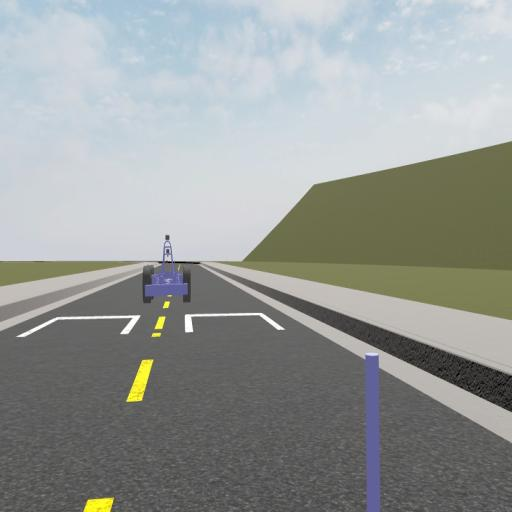ERP-42: (143, 234, 191, 304)
